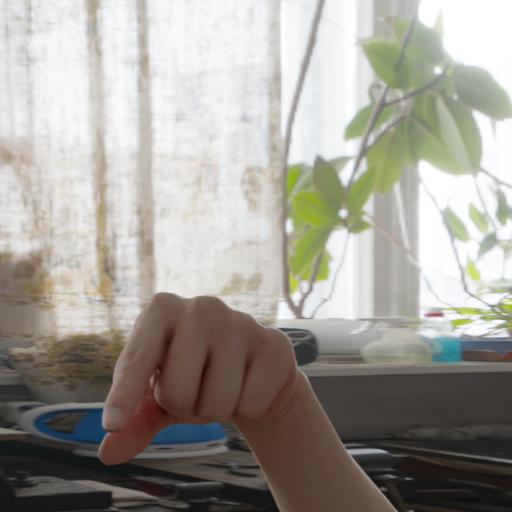Q: (92, 285, 326, 481)
